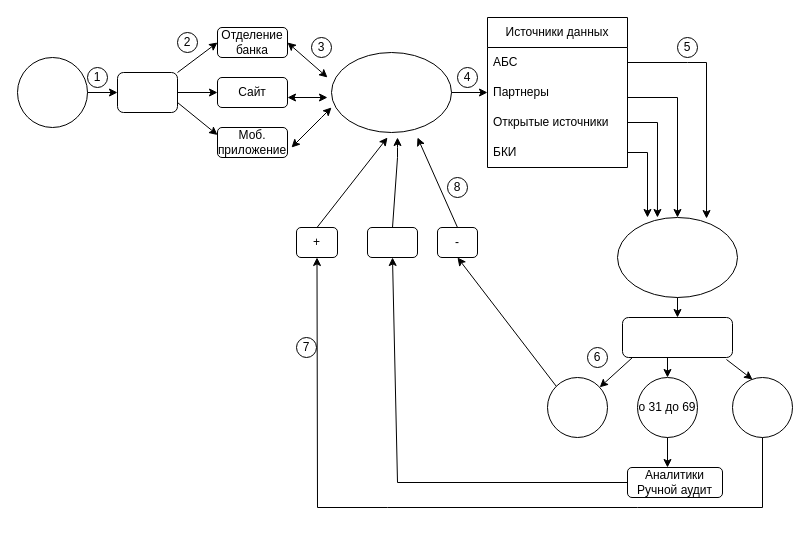
This 810x533 diagram has some shape labels left out. The centre of each missing label's shape, as x and y in pixels:
+ или -: the point at 392,242
Аналитический блок: the point at 677,257
Заявление: the point at 147,92
о 0 до 30: the point at 577,407
о 70 до 99: the point at 762,407
Отдел банка Блок принятия решений: the point at 391,92
Оценка рисков с помощью ML: the point at 677,337
ФЛ: the point at 52,92
